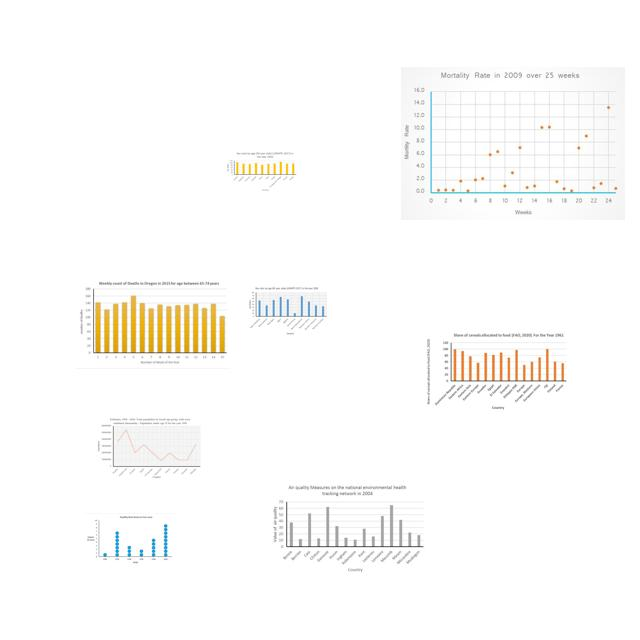Graph: (401, 67, 625, 220), (269, 482, 426, 574), (76, 277, 230, 369), (426, 332, 568, 411), (97, 417, 202, 479), (84, 513, 174, 566), (246, 286, 328, 335), (226, 151, 297, 192)
